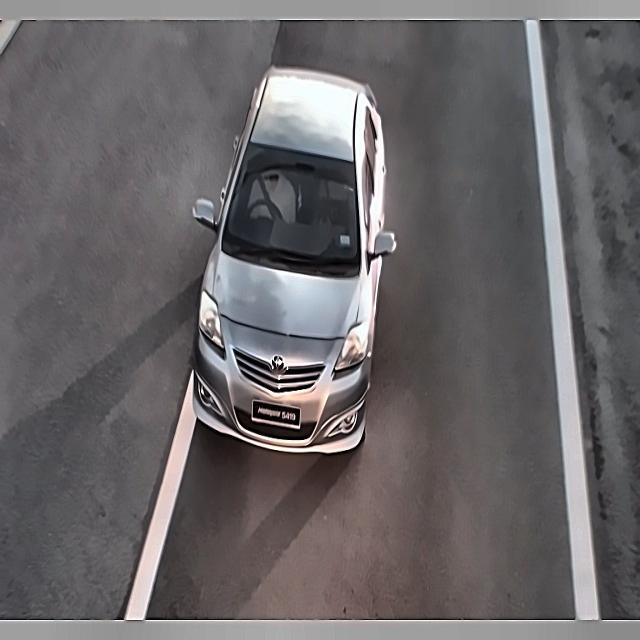car: (247, 396, 309, 431)
